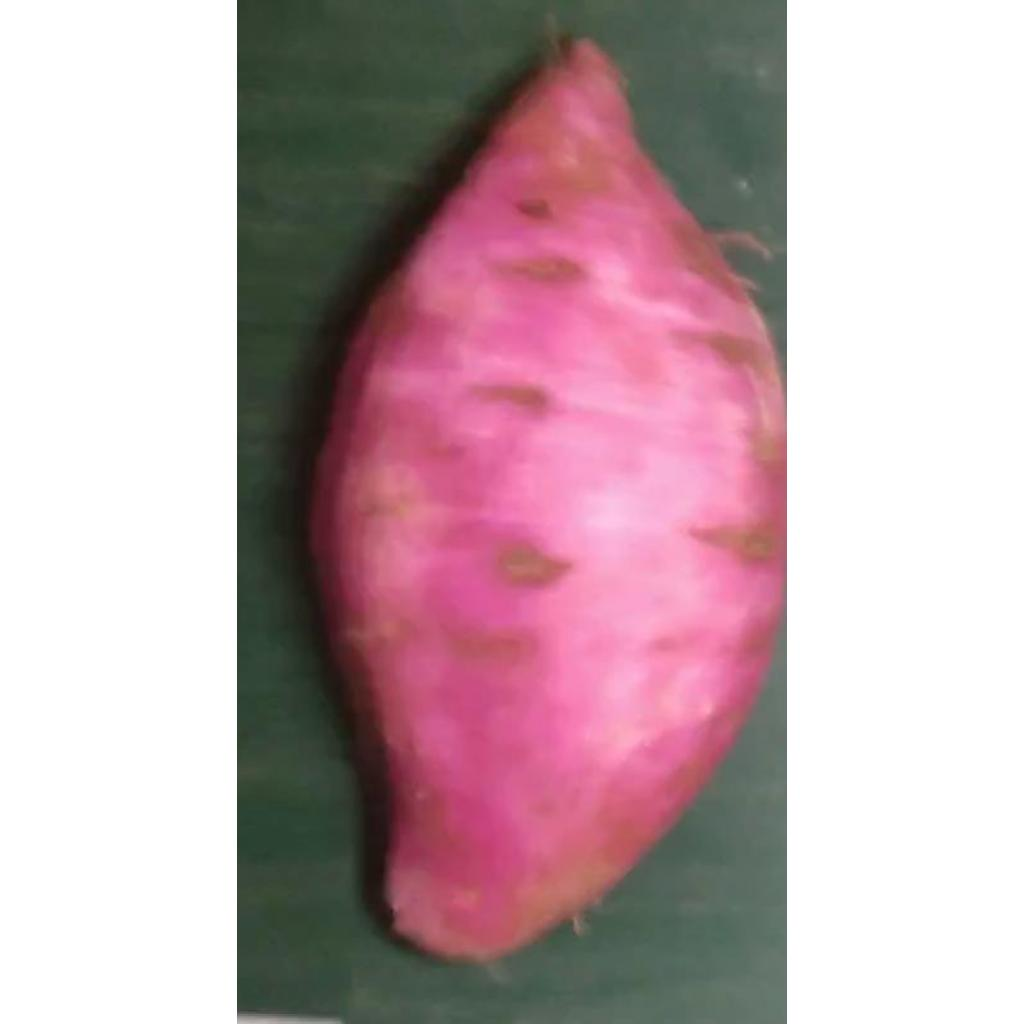Sweet Potato: (307, 36, 787, 968)
